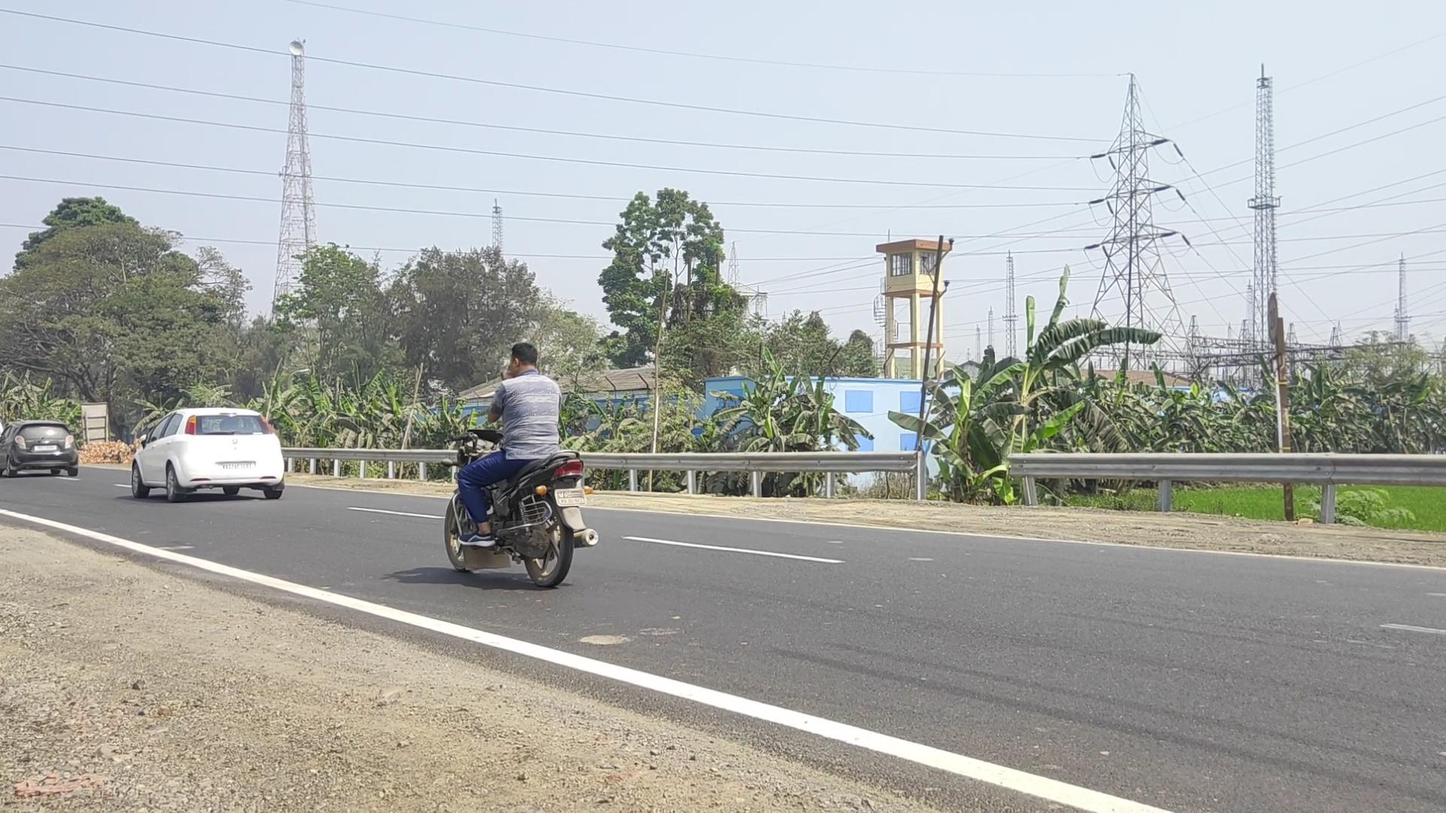bike: (443, 343, 599, 589)
car: (131, 407, 285, 504), (1, 420, 78, 479)
